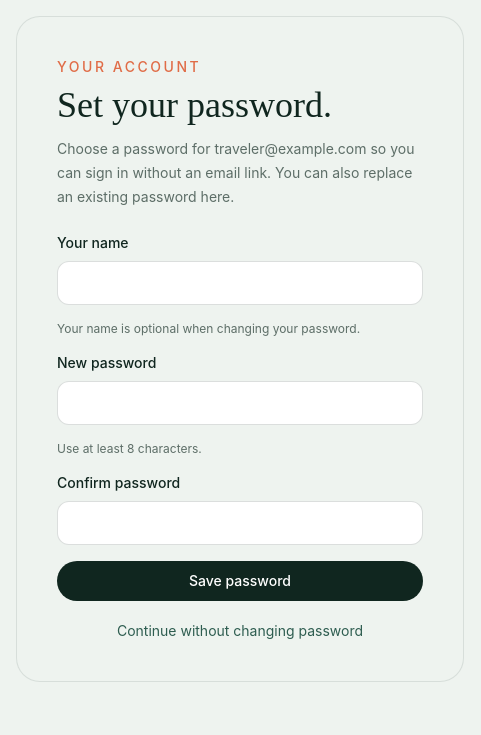
rejects explicit names before saving a profile or password
Type "Fuck You" into the field labelled "Your name".
click(240, 283); type("Fuck You")  # box [57,261,423,305]
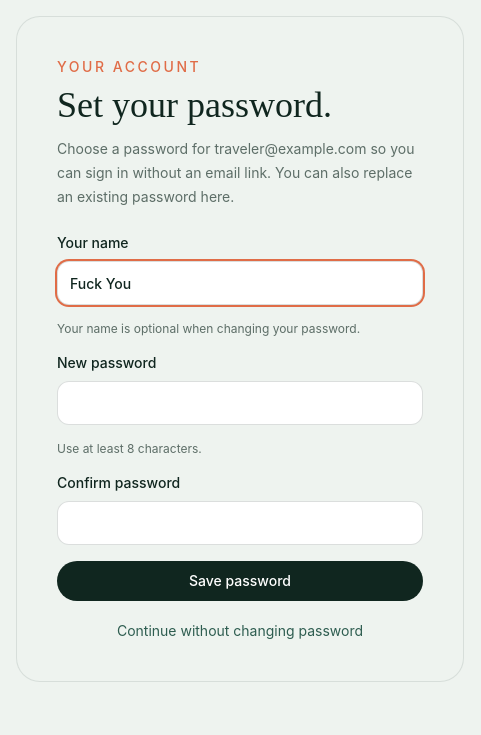
Type "password123" into the password field labelled "New password".
click(240, 403); type("password123")  # box [57,381,423,425]
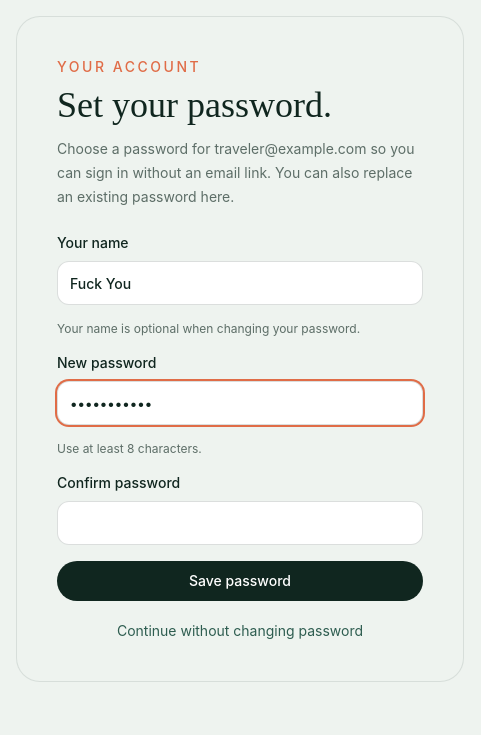
Type "password123" into the password field labelled "Confirm password".
click(240, 523); type("password123")  # box [57,501,423,545]
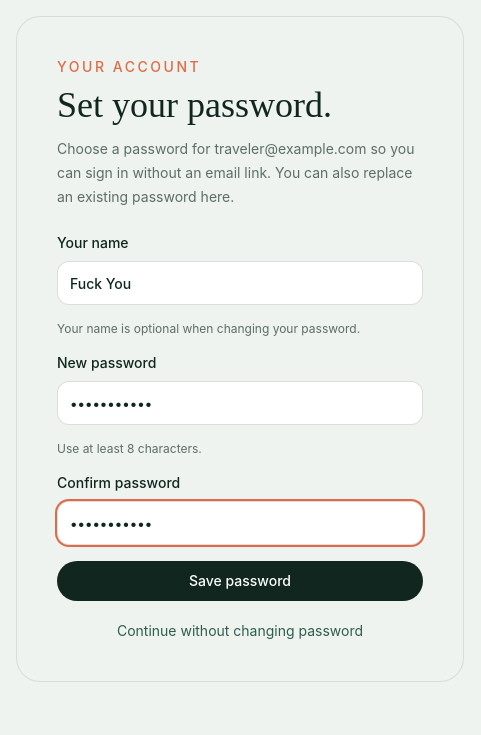
Click the button "Save password".
click(240, 581)  # box [57,561,423,601]
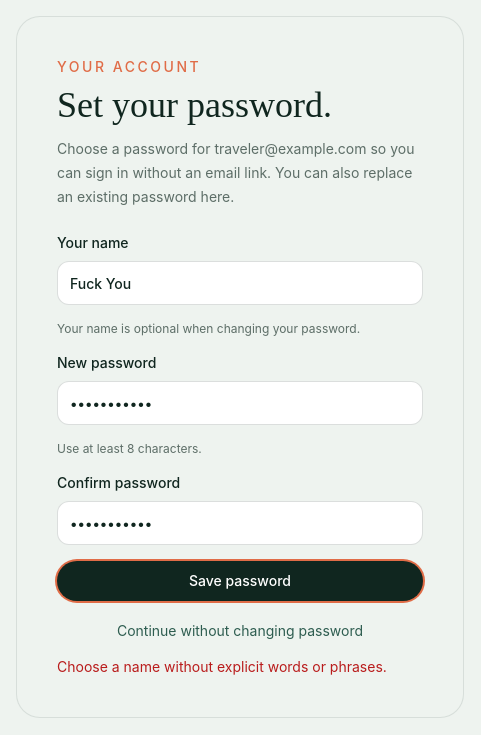
Expected: the message shows "without explicit words or phrases", [57,658,387,675]
